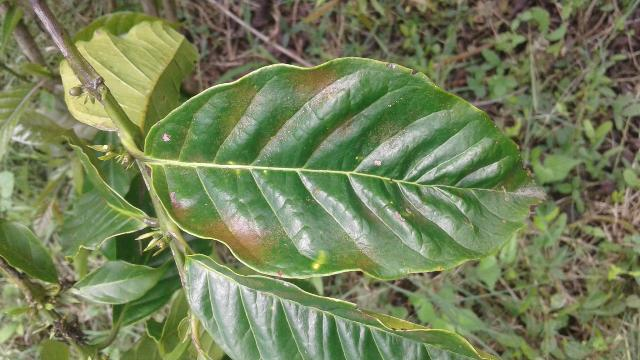red_spider_mite: (143, 55, 560, 280)
